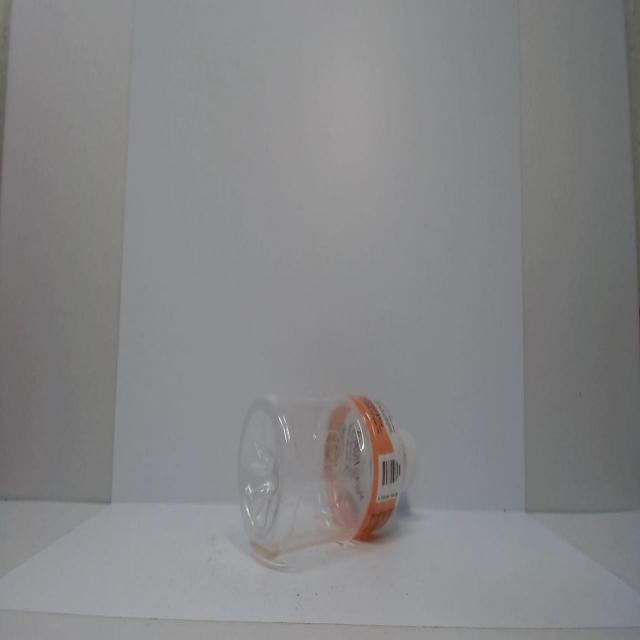bottle: (224, 370, 426, 576)
